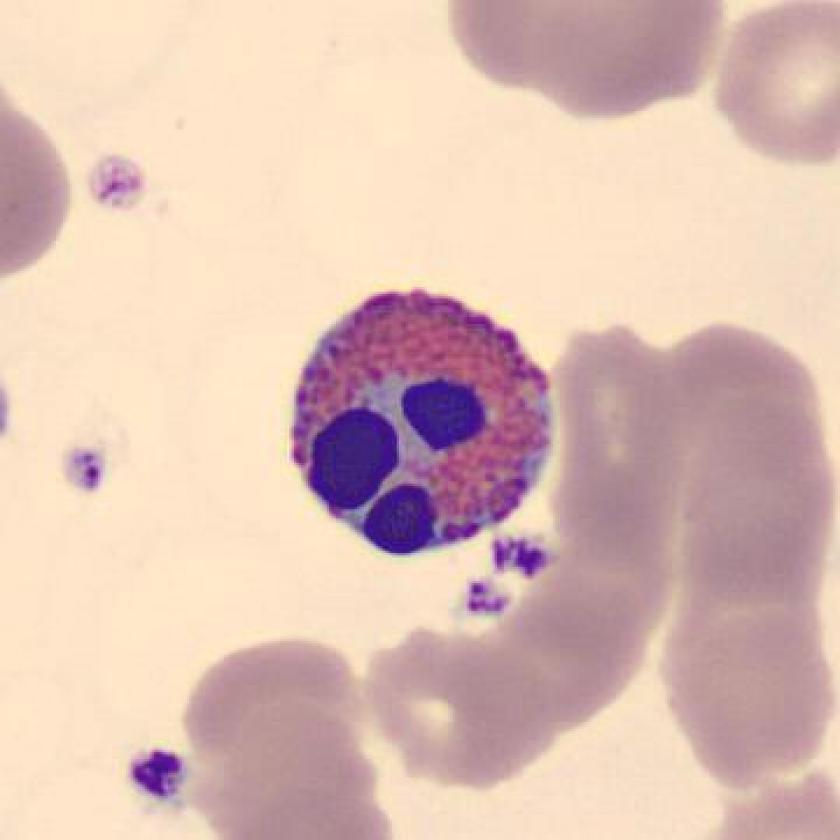eosinophil: (274, 279, 570, 570)
